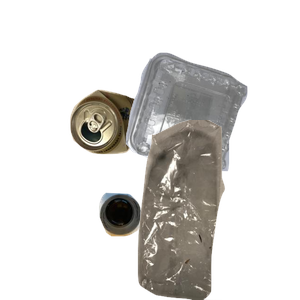glass: (96, 190, 230, 300)
metal: (67, 87, 206, 234)
plastic: (123, 50, 300, 214)
trash: (114, 120, 300, 300)
